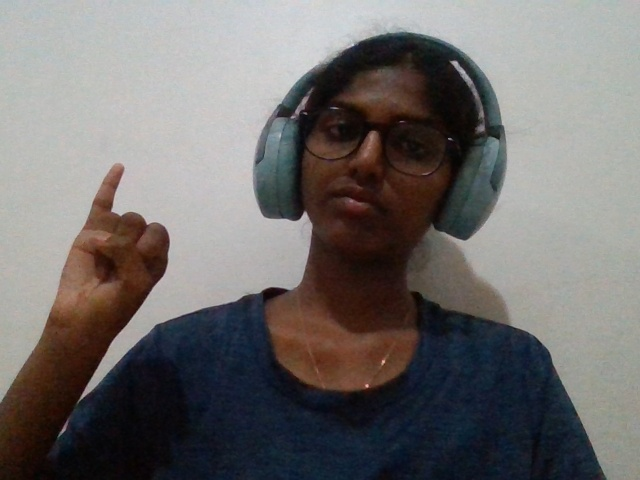I: (20, 156, 205, 389)
